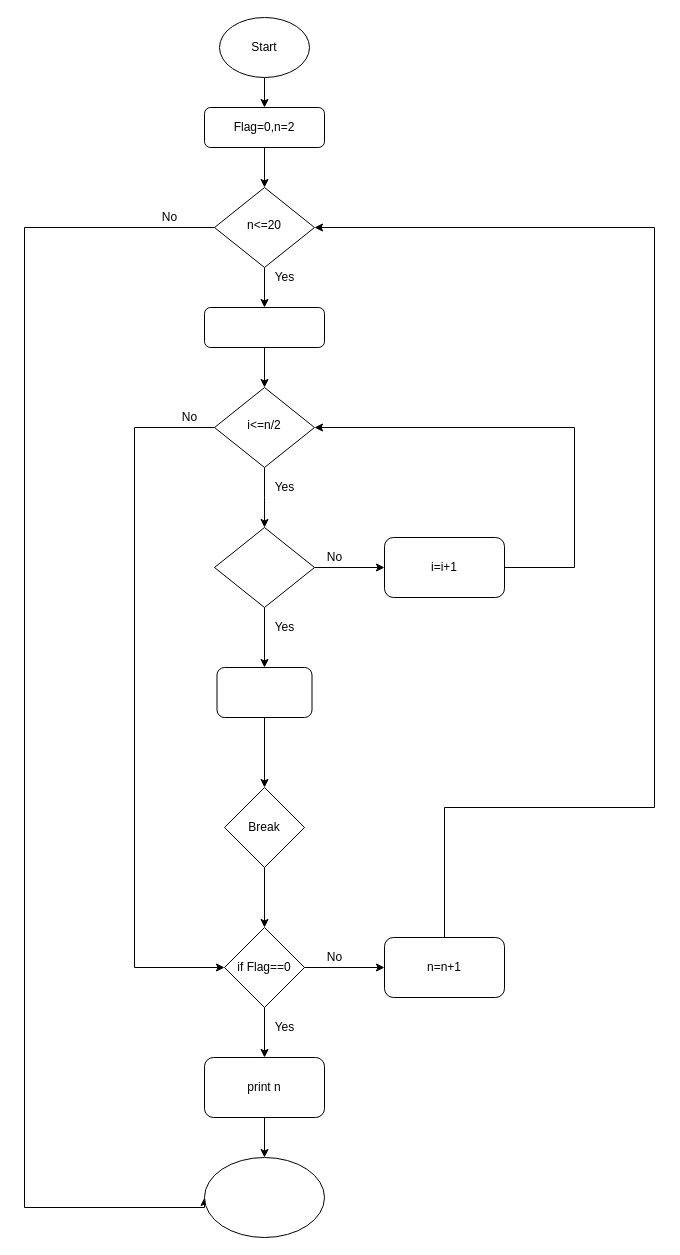
Image size: 680x1255. Some labels were removed from this diagram. The centre of each missing label's shape, as x and y in pixels:
Flag=1: the point at 264,692
i=2: the point at 264,327
if n%i==0: the point at 264,567
Stop: the point at 264,1197
